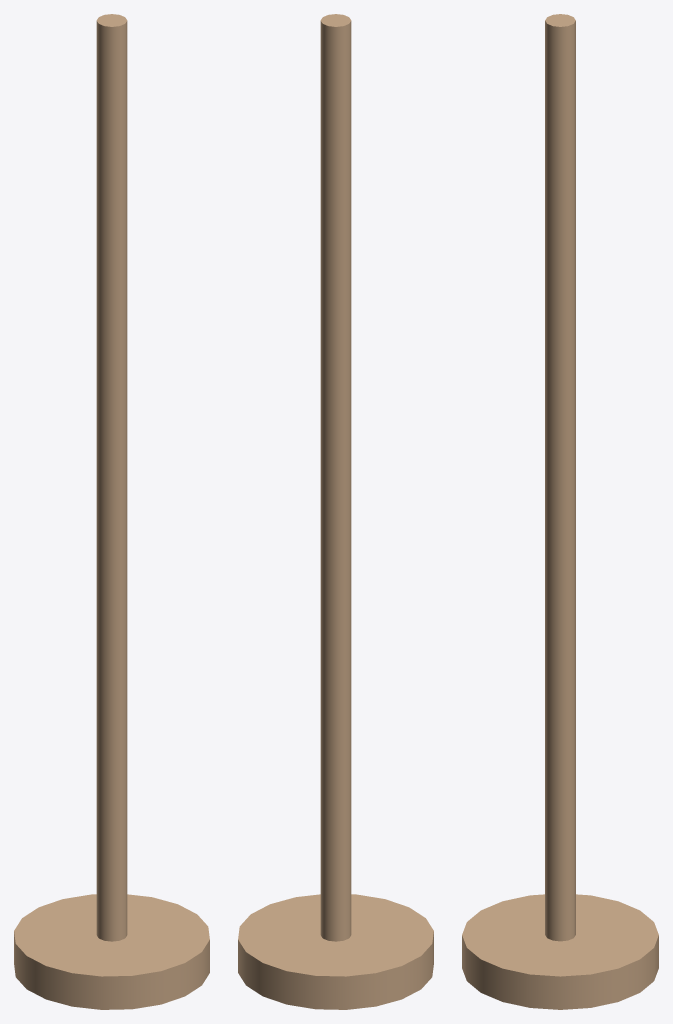
Rendered from coat_stand_01.glb.
3 views of the same model, side by side, from view 1: azimuth 30°, elevation 25°; view 2: azimuth 150°, elevation 25°; view 3: azimuth 270°, elevation 25° (orthographic).
Size of the model in its own units: 0.32 by 1.7 by 0.32.
